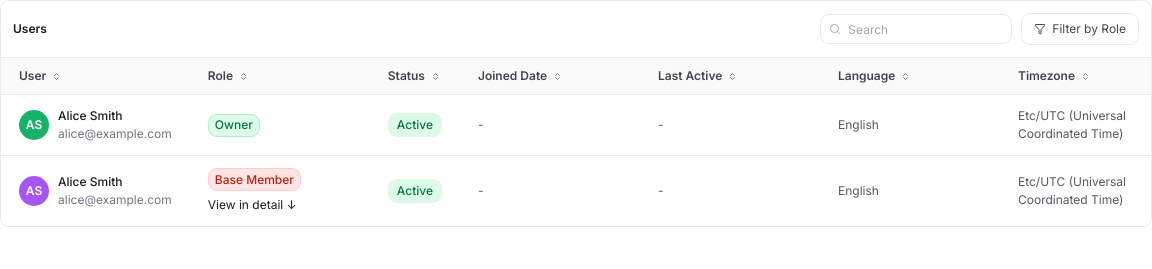
Test case: UserTable › Role Filter › filters users by selected role
Click the button "Filter by Role" at point(1080, 29), box [1021,13,1139,45]
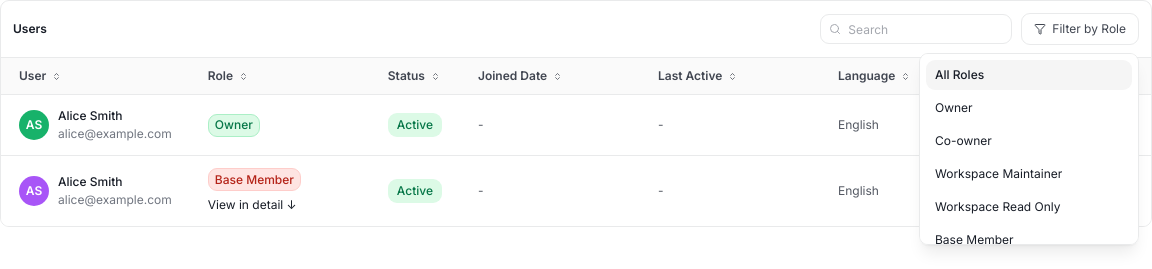
Click the button "Owner" at point(1029, 108), box [926,93,1132,123]
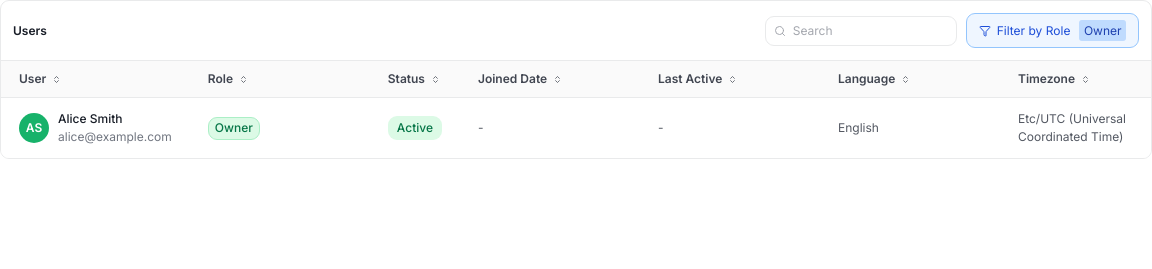
Expected: the text "Owner" in the row of "Users" is shown, [1084,22,1122,38]
Expected: the text "Base Member" is gone
